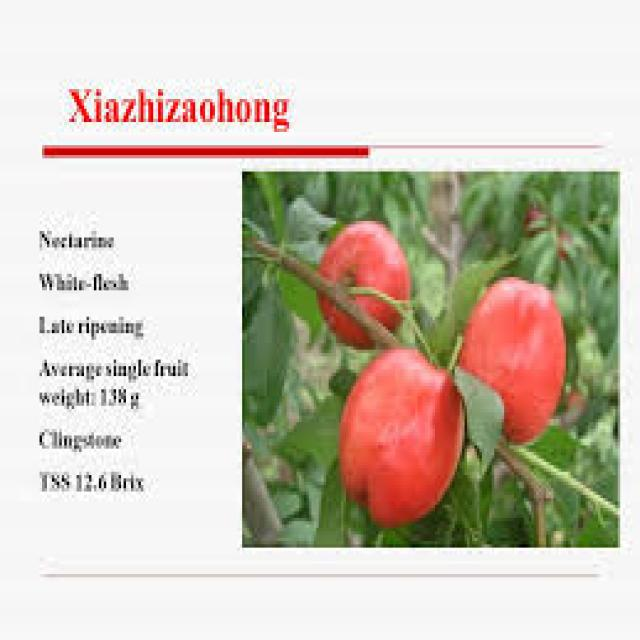Organik: (342, 340, 473, 512), (465, 274, 570, 426), (324, 218, 404, 335)
